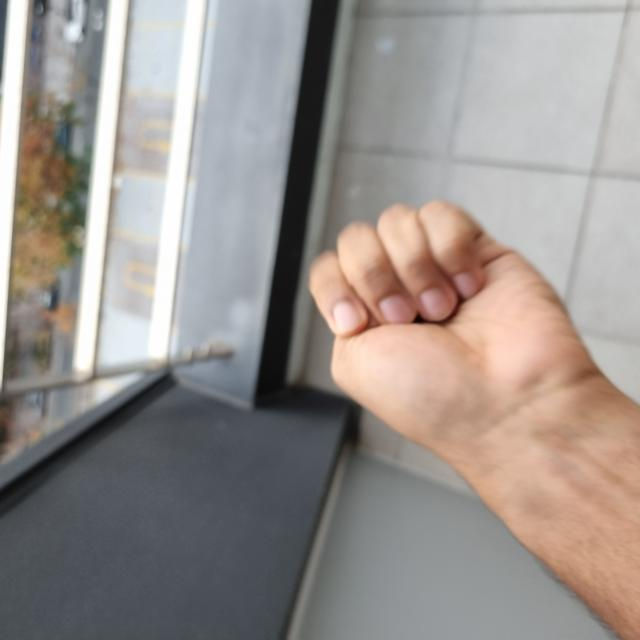Rock: (175, 307, 438, 584)
